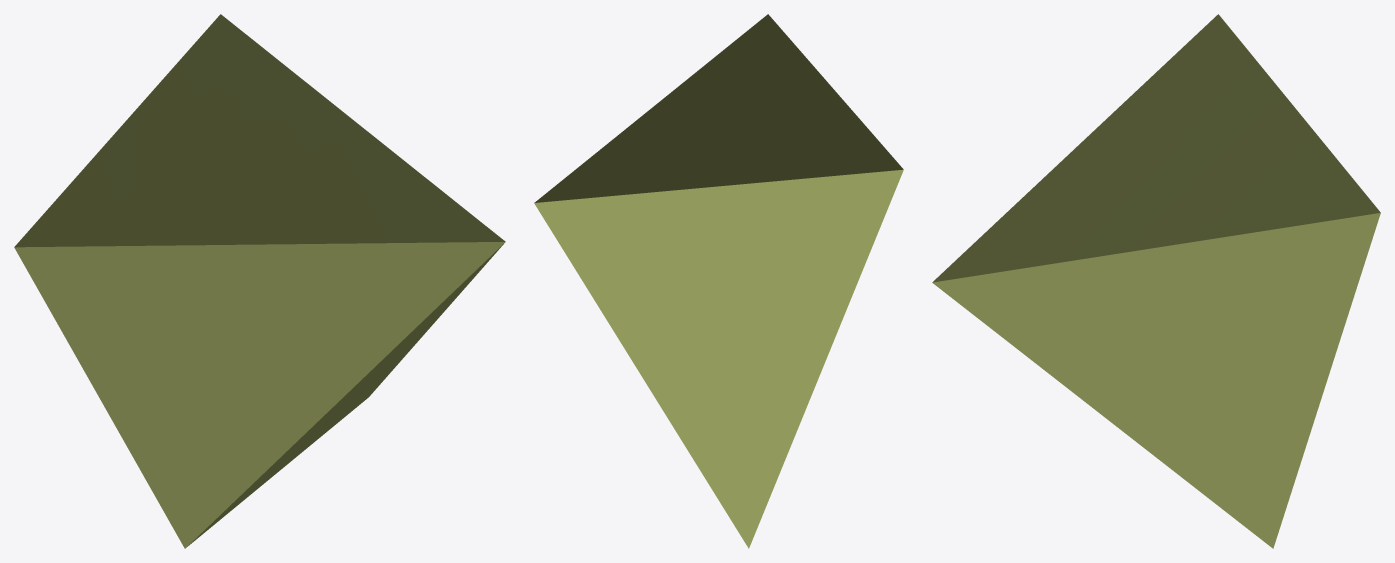
The picture shows the model from 3 angles, left to right: view 1: azimuth 30°, elevation 25°; view 2: azimuth 150°, elevation 25°; view 3: azimuth 270°, elevation 25°; orthographic projection. The views are drawn at different scales.
Size of the model in its own units: 0.1439 by 0.1945 by 0.1469.
Materials: 1 (1 with a texture image).
